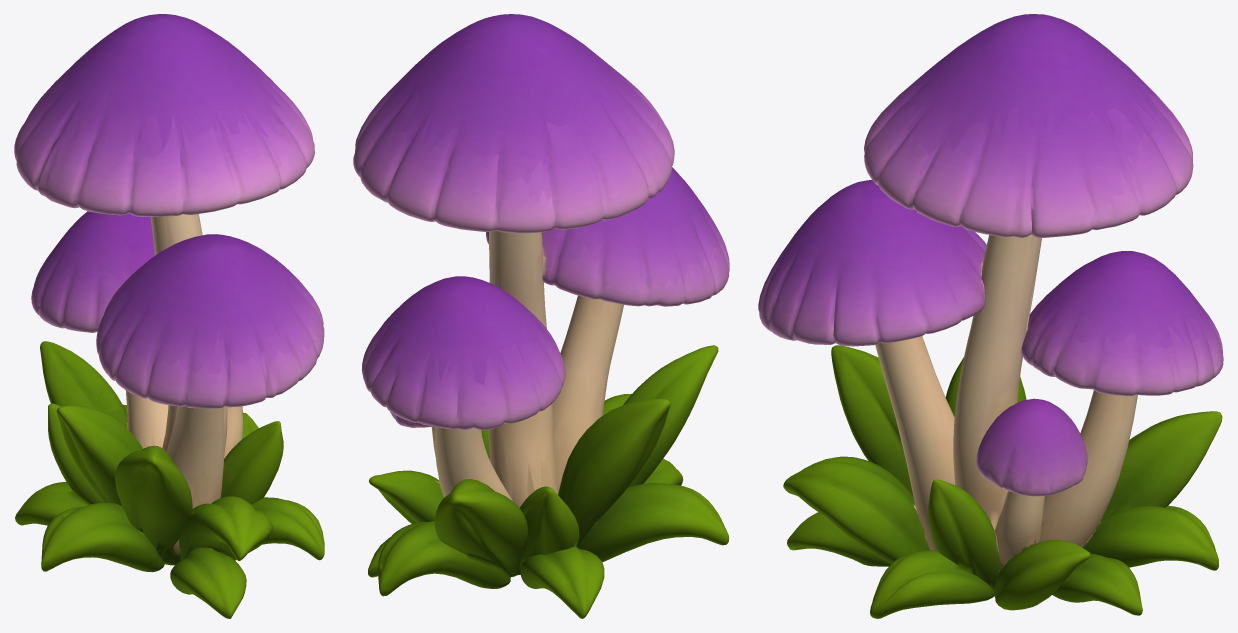
Rendered from shroom_trio.glb.
The picture shows the model from 3 angles, left to right: view 1: azimuth 30°, elevation 25°; view 2: azimuth 150°, elevation 25°; view 3: azimuth 270°, elevation 25°; orthographic projection. The views are drawn at different scales.
Visible parts, largest first — view 1: tripo_node_9b7cfc15-bb2b-4e35-a10b-a96a65b3b9af; view 2: tripo_node_9b7cfc15-bb2b-4e35-a10b-a96a65b3b9af; view 3: tripo_node_9b7cfc15-bb2b-4e35-a10b-a96a65b3b9af.
Boxes of the visible parts, x1=… form: tripo_node_9b7cfc15-bb2b-4e35-a10b-a96a65b3b9af: x1=14, y1=14, x2=324, y2=618; tripo_node_9b7cfc15-bb2b-4e35-a10b-a96a65b3b9af: x1=353, y1=14, x2=729, y2=618; tripo_node_9b7cfc15-bb2b-4e35-a10b-a96a65b3b9af: x1=758, y1=14, x2=1223, y2=618.
Bounding box in the file's own units: 0.6005 × 1 × 0.7588.
Materials: 1 (1 with a texture image).
